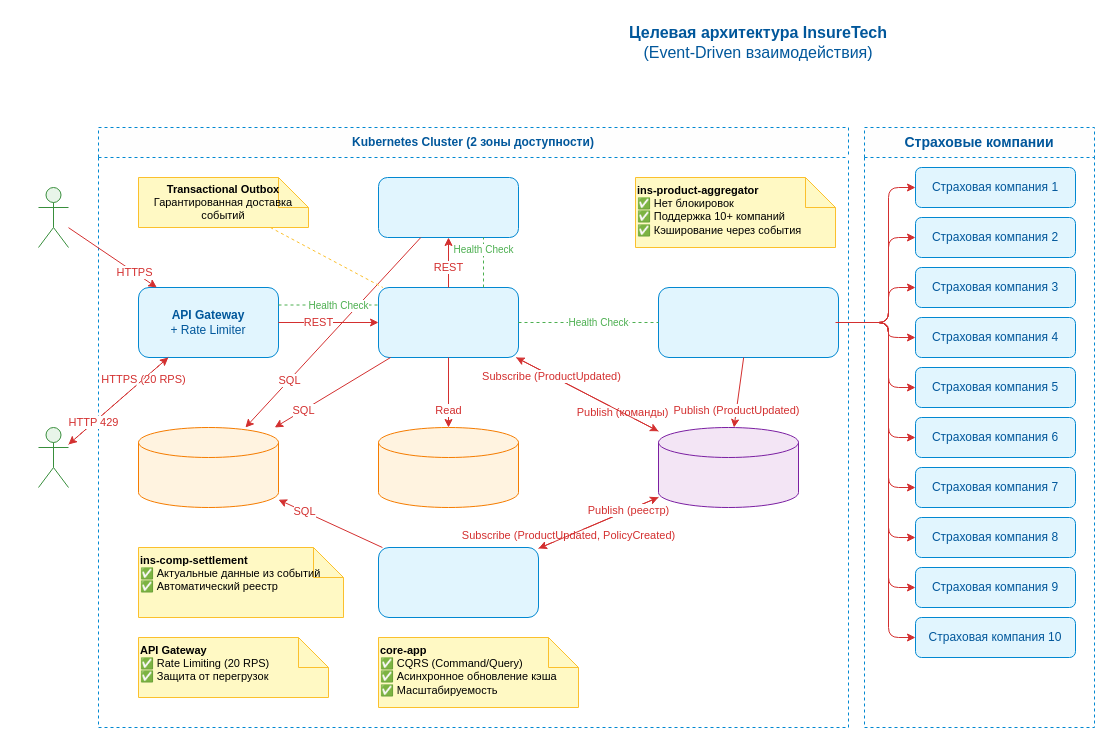
Image size: 1112x745. Some labels were removed from this diagram. Each missing label, with the centre of its shape:
"B2B Партнер" belongs at (x=53, y=457).
"Cache Redis Cache (продукты и тарифы)" belongs at (x=448, y=467).
"client-info" belongs at (x=448, y=207).
"core-app" belongs at (x=448, y=322).
"ins-comp-settlement" belongs at (x=458, y=582).
"ins-product-aggregator" belongs at (x=748, y=322).
"Message Broker Kafka / RabbitMQ" belongs at (x=728, y=467).
"PostgreSQL (Master-Master)" belongs at (x=208, y=467).
"Клиент" belongs at (x=53, y=217).
